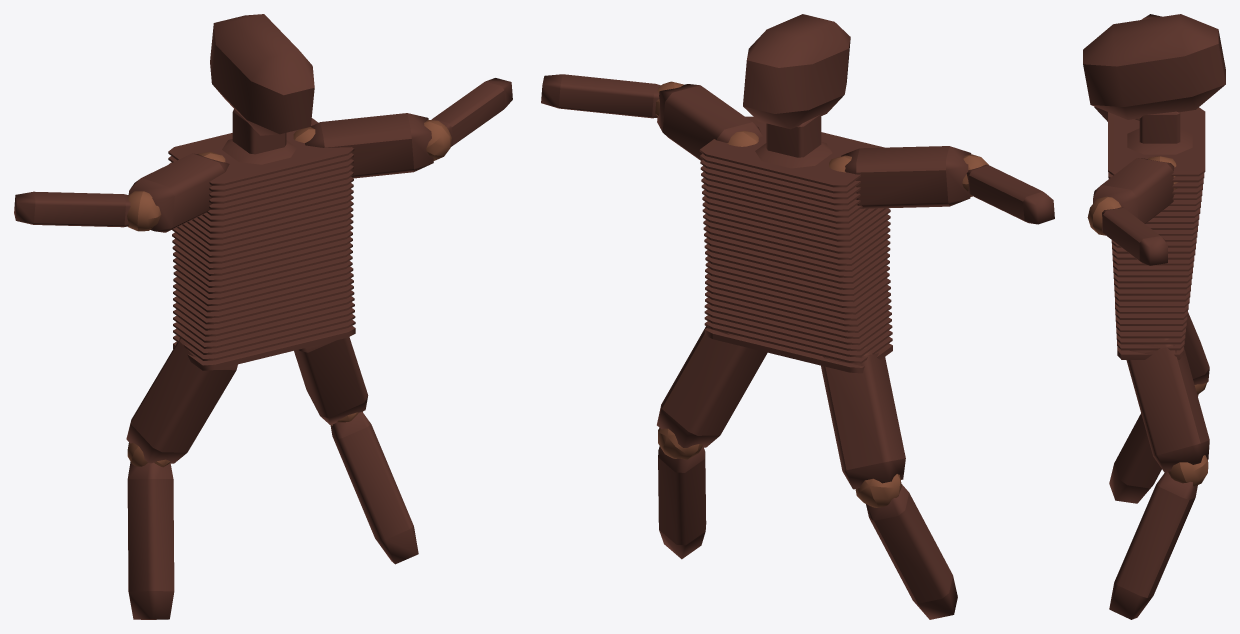
File: Robots and Humanoids(3).glb
3 views of the same model, side by side, from view 1: azimuth 30°, elevation 25°; view 2: azimuth 150°, elevation 25°; view 3: azimuth 270°, elevation 25° (orthographic). The views are drawn at different scales.
Parts seen in each view (by area): view 1: Root; view 2: Root; view 3: Root.
Part boxes in pixels (<box>): Root: <box>14,14,512,619</box>; Root: <box>541,14,1054,619</box>; Root: <box>1083,14,1225,619</box>.
Size of the model in its own units: 3.4 by 3.64 by 0.8746.
